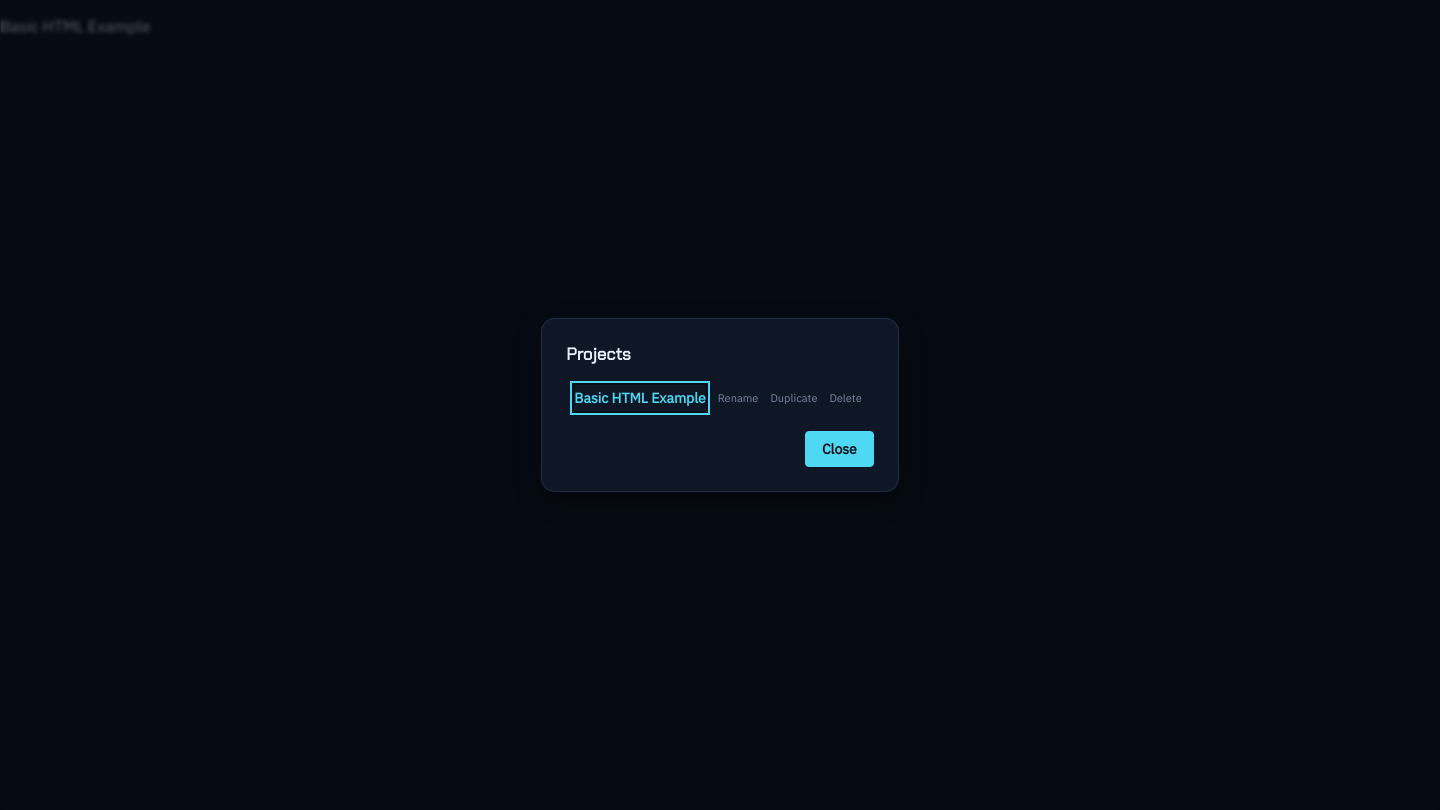
Scenario: ProjectSwitcherDialog › deletes a project after confirming
Click the button with aria-label "Duplicate Basic HTML Example". click: (794, 398)
box: [766,387,821,409]
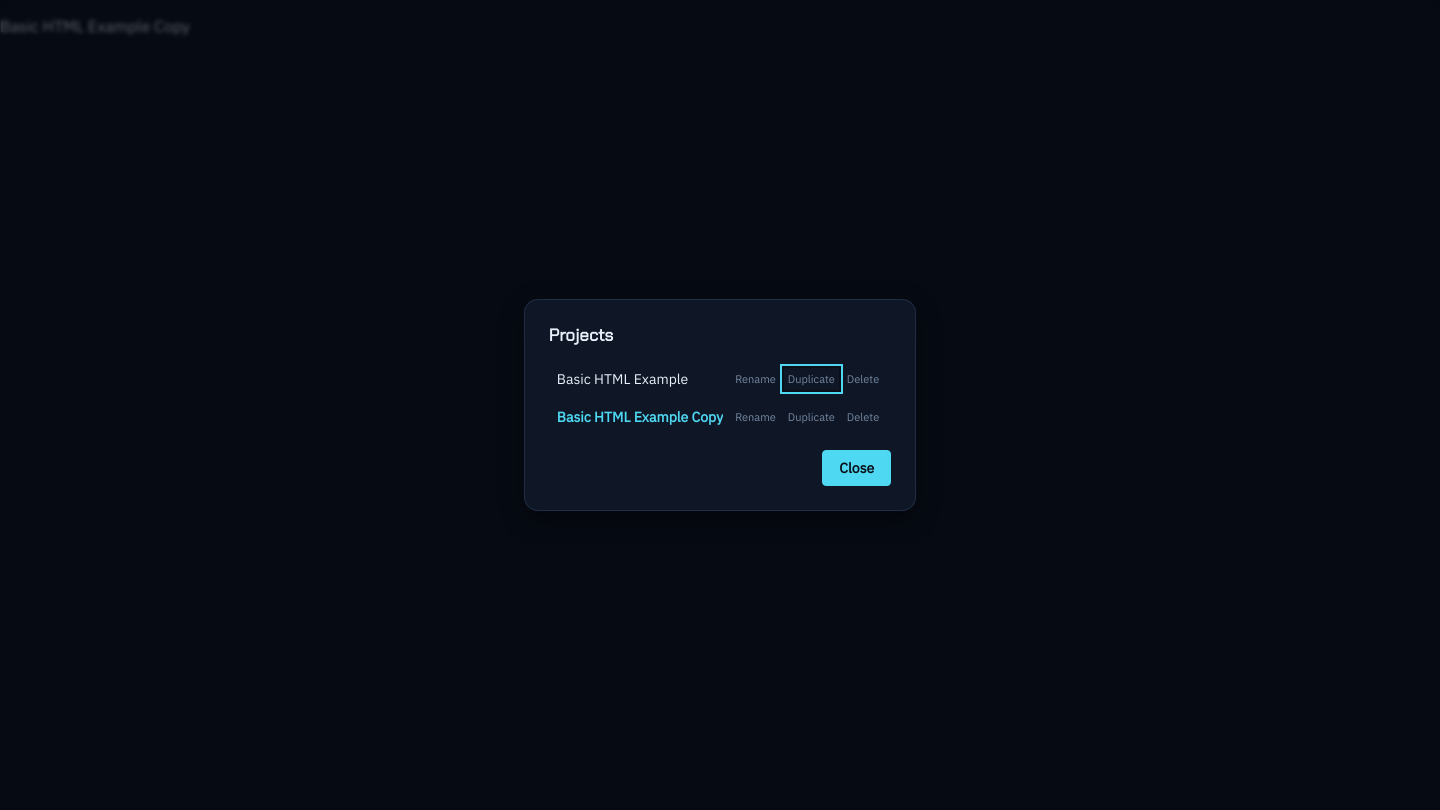
Click the button with aria-label "Delete Basic HTML Example Copy". click: (863, 417)
box: [843,406,883,428]
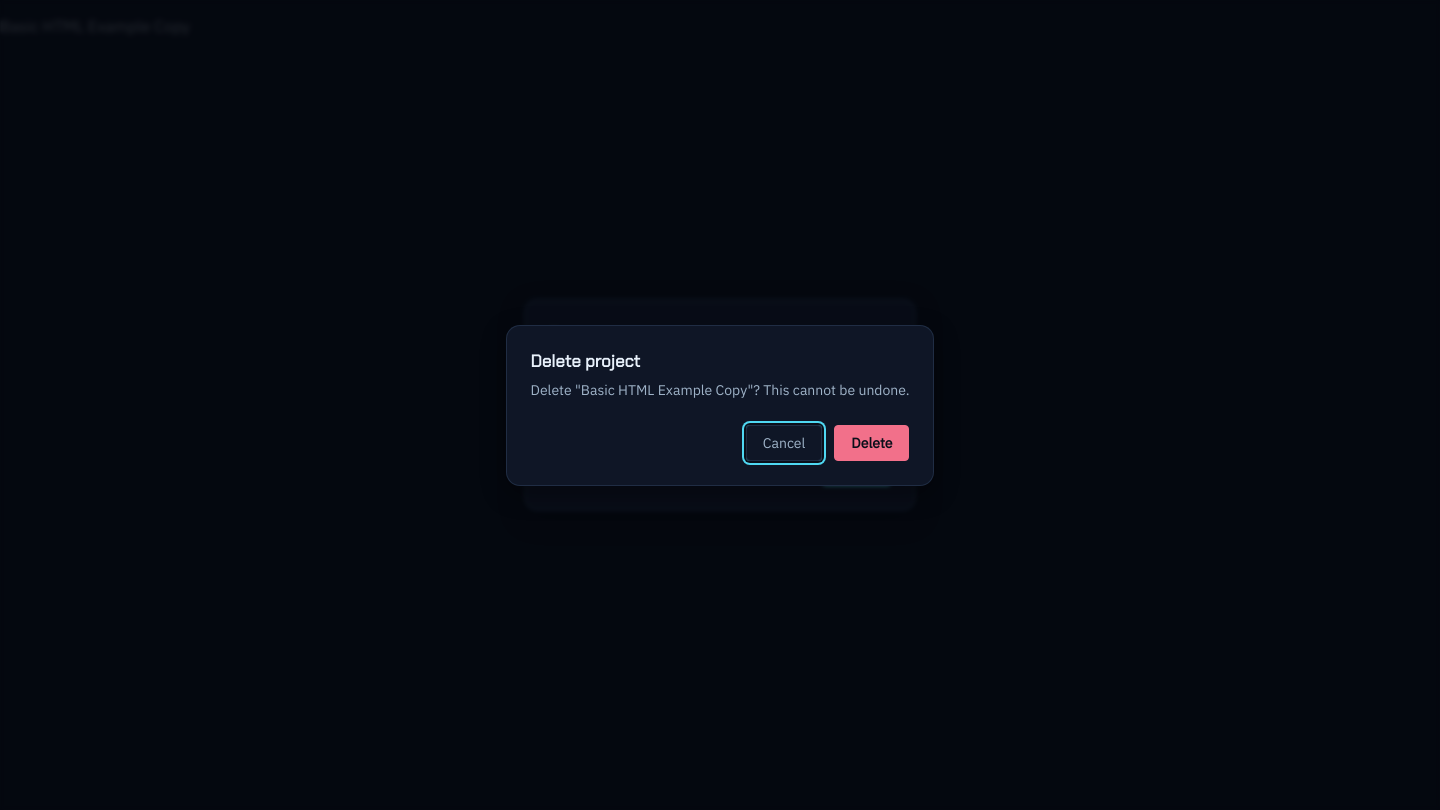
Click the button "Delete". click: (872, 442)
box: [834,424,909,460]
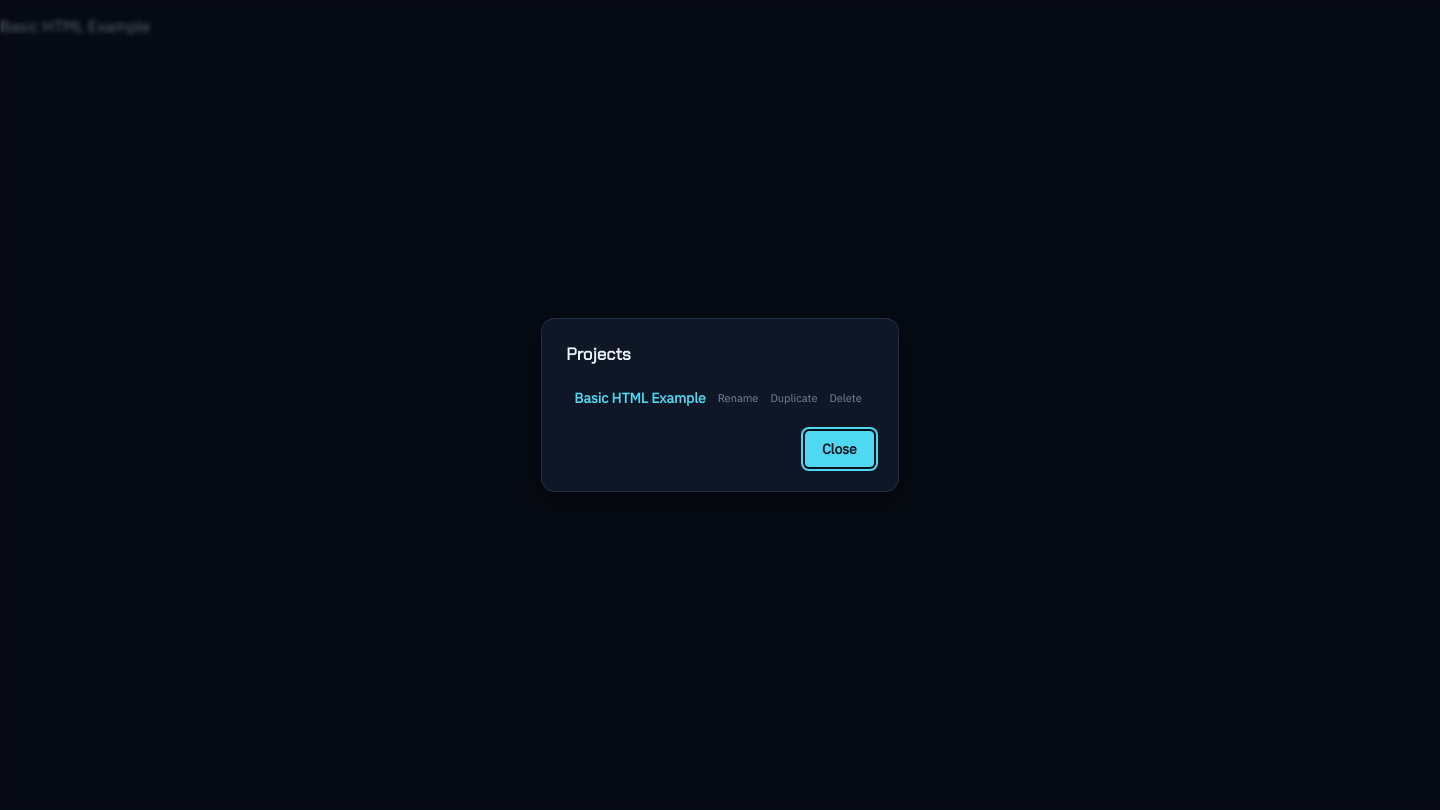
Check: the text "Basic HTML Example Copy" is gone
